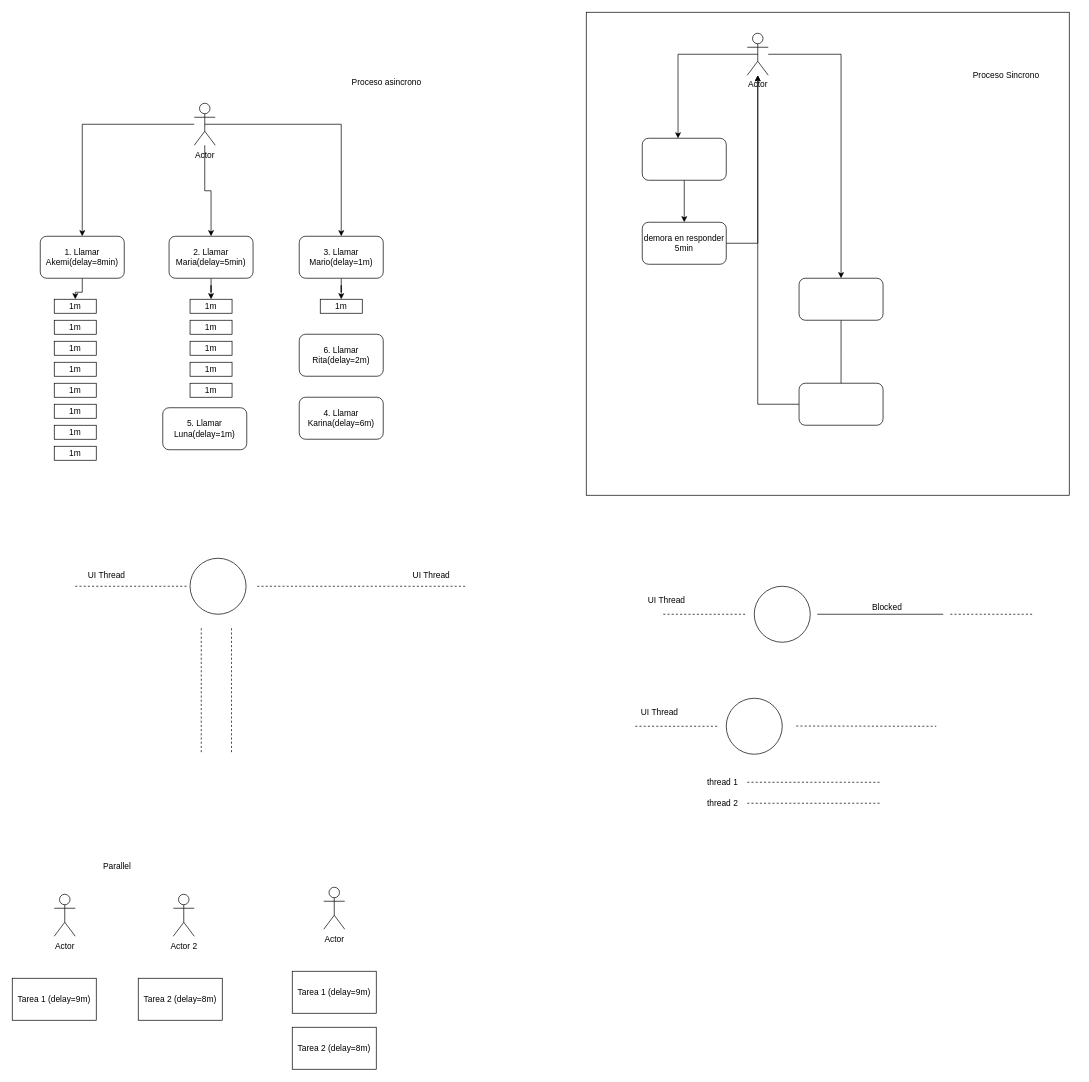
This 1089x1082 diagram has some shape labels left out. The shapes that lost their labels are listed below. From the top down, each one's box as (x1, y1, x2, y2) in pixels, then its label:
(642, 138, 726, 180): 1. Llamar Akemi
(798, 278, 883, 320): 2. LlamarMaria
(798, 383, 883, 425): demora en responder 1 min
